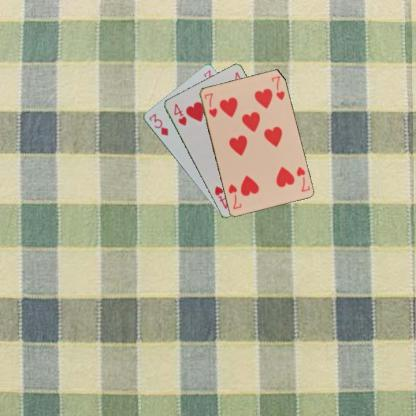3d: (146, 111, 169, 137)
4h: (171, 101, 188, 127)
7h: (293, 163, 311, 193), (202, 90, 218, 119)
